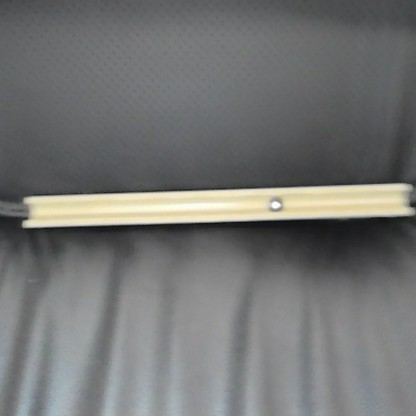ironball: (265, 194, 283, 214)
